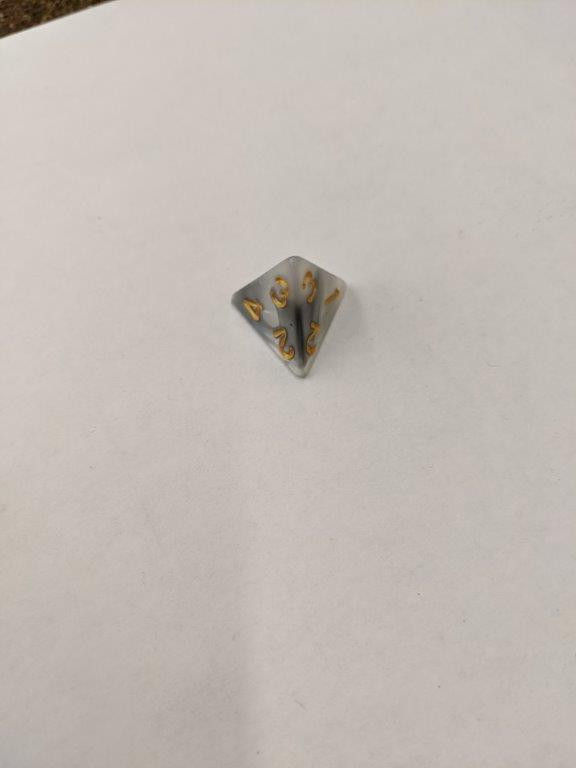d4-3: (223, 252, 352, 385)
